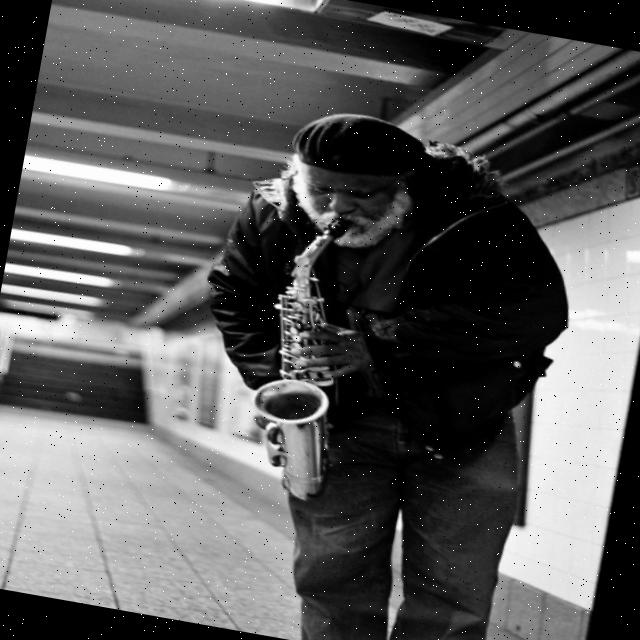saxophone: (234, 205, 378, 504)
